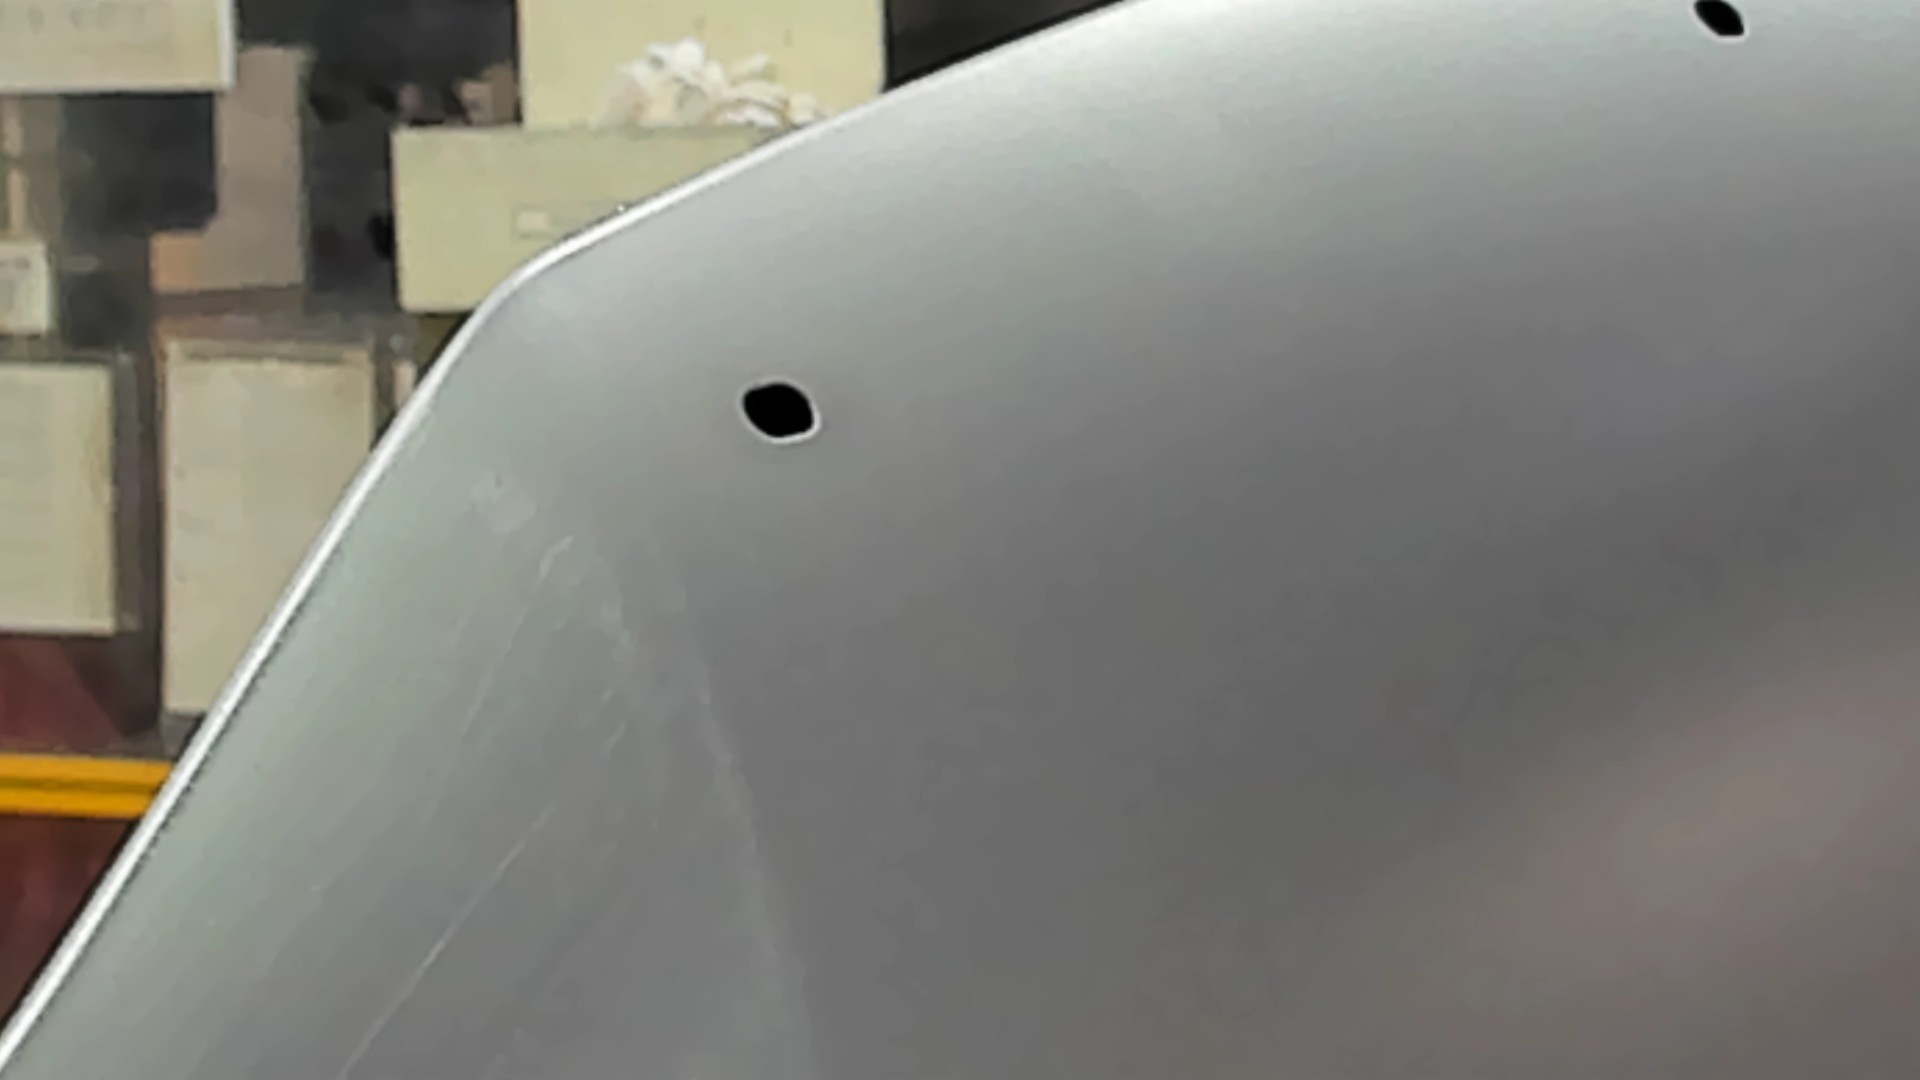amorfo: (736, 378, 824, 444), (1687, 1, 1754, 46)
